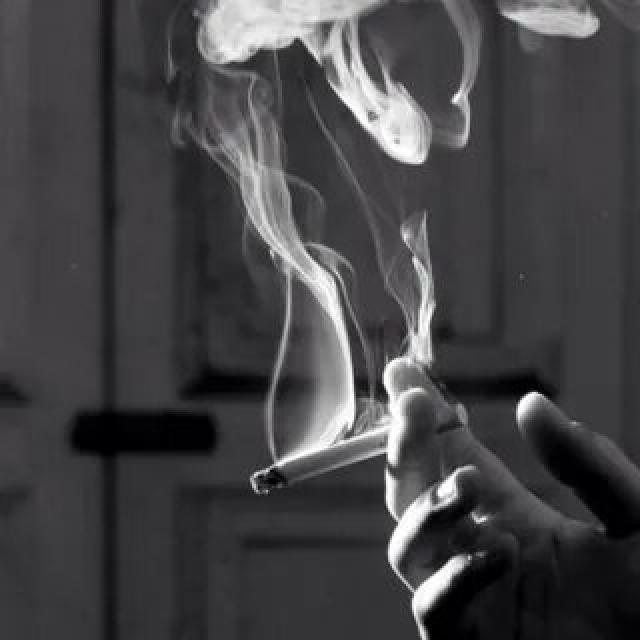cigarette: (238, 396, 472, 508)
